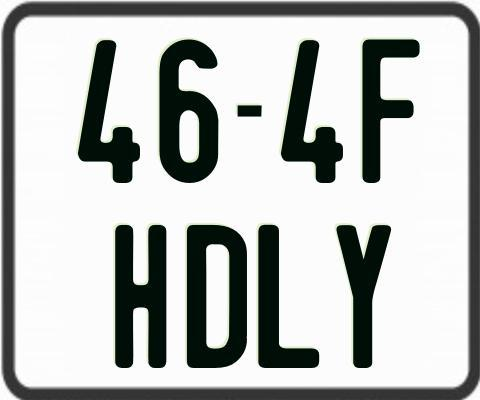4: (76, 39, 144, 182), (279, 37, 341, 185)
6: (156, 39, 216, 189)
D: (186, 225, 246, 369)
F: (362, 36, 421, 181)
H: (114, 224, 168, 371)
L: (256, 225, 317, 370)
Y: (333, 222, 389, 365)
